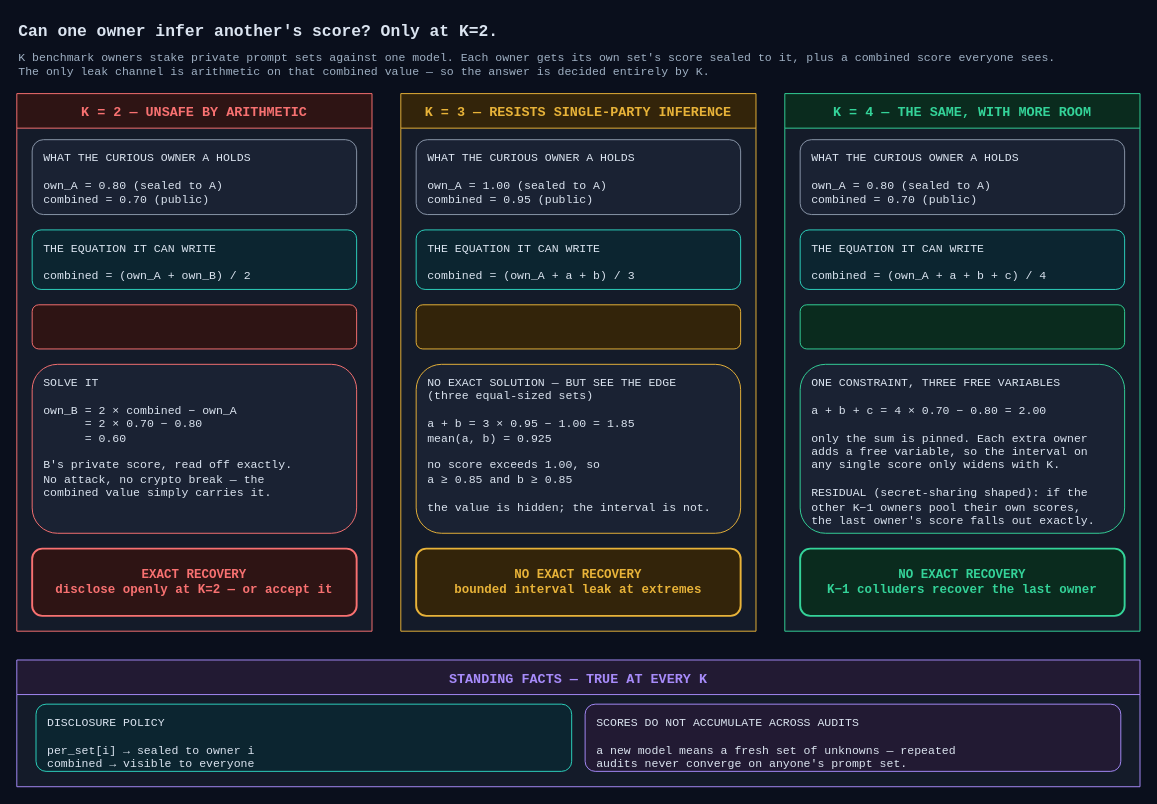
Image size: 1157x804. Some labels were removed from this diagram. Each missing label, with the centre of its shape:
"1 equation · 1 unknown" goes at pixel 194 326.
"1 equation · 2 unknowns" goes at pixel 578 326.
"1 equation · 3 unknowns" goes at pixel 962 326.
